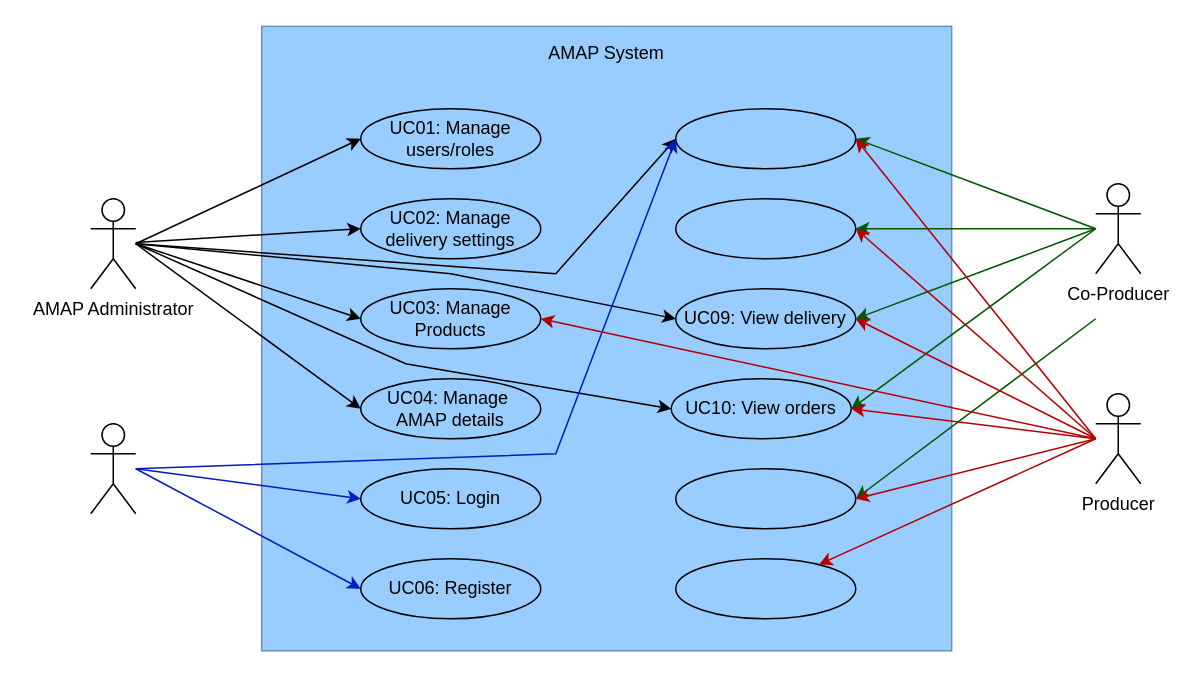
This 1196x678 diagram has some shape labels left out. The shapes that lost their labels are listed below. From the top down, each one's centre as x and y in pixels, then its label:
At (765,138): "UC07: View/Search Products".
At (765,228): "UC08: View order history".
At (112,468): "Unauthenticated User".
At (765,498): "UC11: Manage orders".
At (765,588): "UC12: Manage Profile".
